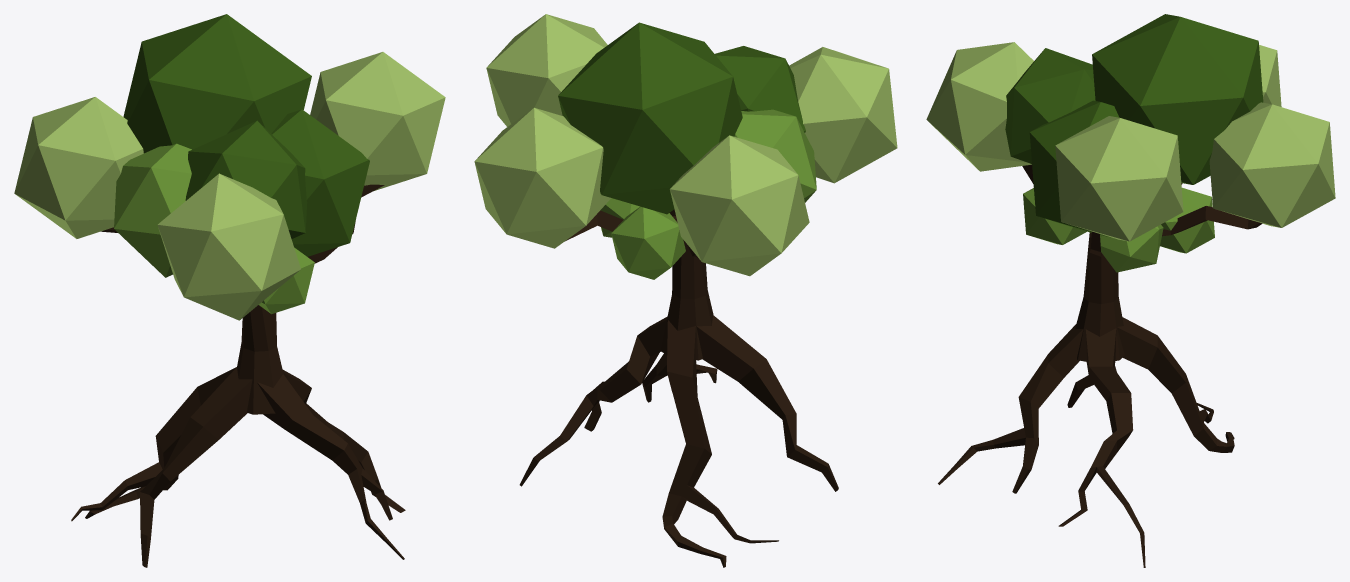
Rendered from BigTree.fbx.
The picture shows the model from 3 angles, left to right: view 1: azimuth 30°, elevation 25°; view 2: azimuth 150°, elevation 25°; view 3: azimuth 270°, elevation 25°; orthographic projection. The views are drawn at different scales.
Visible parts, largest first — view 1: Icosphere.001, Roots, Icosphere.007, Icosphere.006, Icosphere.003, Icosphere.002, Icosphere, Icosphere.008, Tree trunk, Icosphere.010; view 2: Icosphere.001, Roots, Icosphere.006, Icosphere.005, Icosphere.007, Icosphere.003, Icosphere, Icosphere.009, Icosphere.008, Tree trunk, Tree Branches, Icosphere.004; view 3: Icosphere.001, Roots, Icosphere.003, Icosphere.005, Icosphere.007, Icosphere, Icosphere.002, Tree trunk, Icosphere.004, Icosphere.009, Tree Branches, Icosphere.010 (+1 smaller).
Boxes of the visible parts, x1=… form: Icosphere.001: x1=123, y1=14, x2=311, y2=153; Roots: x1=71, y1=367, x2=405, y2=567; Icosphere.007: x1=157, y1=173, x2=300, y2=320; Icosphere.006: x1=14, y1=97, x2=143, y2=238; Icosphere.003: x1=310, y1=52, x2=445, y2=191; Icosphere.002: x1=271, y1=109, x2=369, y2=256; Icosphere: x1=185, y1=120, x2=307, y2=238; Icosphere.008: x1=114, y1=143, x2=191, y2=277; Tree trunk: x1=237, y1=305, x2=283, y2=414; Icosphere.010: x1=259, y1=247, x2=314, y2=314; Icosphere.001: x1=558, y1=22, x2=742, y2=214; Roots: x1=519, y1=315, x2=838, y2=567; Icosphere.006: x1=670, y1=135, x2=809, y2=276; Icosphere.005: x1=474, y1=107, x2=610, y2=248; Icosphere.007: x1=789, y1=47, x2=897, y2=183; Icosphere.003: x1=486, y1=14, x2=607, y2=126; Icosphere: x1=715, y1=46, x2=805, y2=132; Icosphere.009: x1=611, y1=206, x2=685, y2=279; Icosphere.008: x1=734, y1=109, x2=816, y2=202; Tree trunk: x1=660, y1=240, x2=713, y2=360; Tree Branches: x1=565, y1=209, x2=697, y2=257; Icosphere.004: x1=600, y1=198, x2=639, y2=237; Icosphere.001: x1=1092, y1=14, x2=1263, y2=184; Roots: x1=938, y1=317, x2=1234, y2=567; Icosphere.003: x1=1055, y1=116, x2=1183, y2=241; Icosphere.005: x1=1209, y1=102, x2=1335, y2=227; Icosphere.007: x1=926, y1=42, x2=1033, y2=171; Icosphere: x1=1005, y1=48, x2=1095, y2=163; Icosphere.002: x1=1029, y1=100, x2=1119, y2=237; Tree trunk: x1=1075, y1=232, x2=1124, y2=361; Icosphere.004: x1=1100, y1=224, x2=1163, y2=272; Icosphere.009: x1=1160, y1=187, x2=1214, y2=253; Tree Branches: x1=1022, y1=164, x2=1262, y2=256; Icosphere.010: x1=1023, y1=188, x2=1086, y2=244.
Size of the model in its own units: 3017 by 4216 by 3206.
3 materials, 3 textured.
